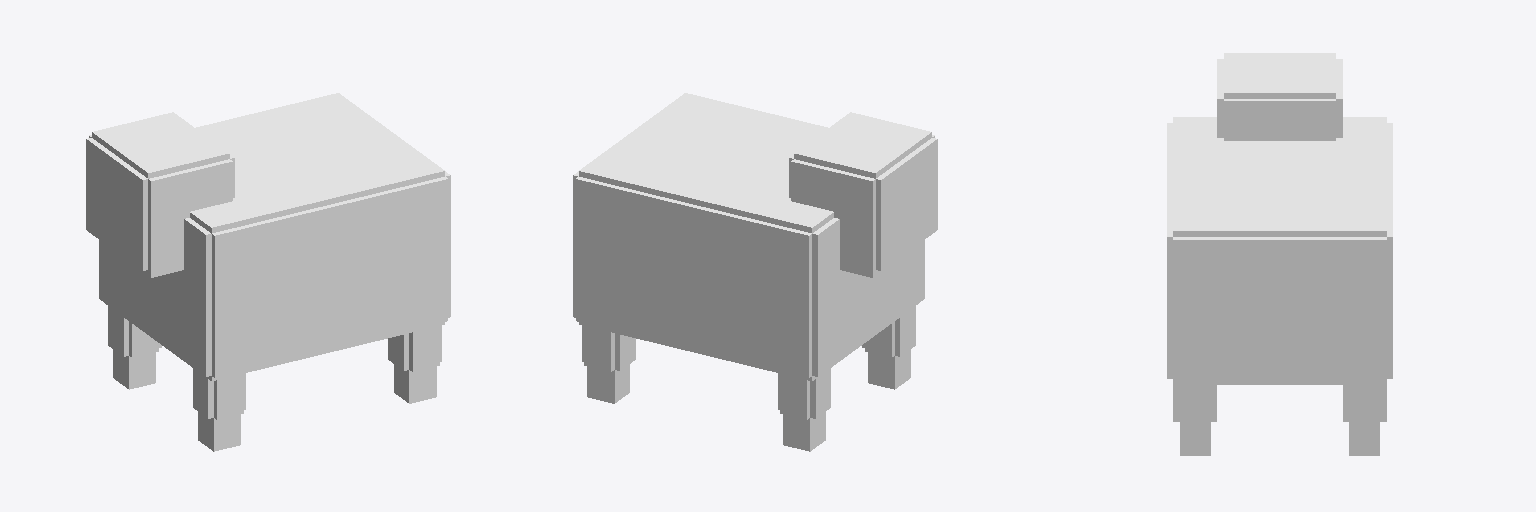
The model's file is hamster3020.obj.
3 views of the same model, side by side, from view 1: azimuth 30°, elevation 25°; view 2: azimuth 150°, elevation 25°; view 3: azimuth 270°, elevation 25° (orthographic).
Visible parts, largest first — view 1: object 1; view 2: object 1; view 3: object 1.
Part boxes in pixels (bbox=[...]): object 1: bbox=[86, 93, 450, 451]; object 1: bbox=[573, 93, 937, 451]; object 1: bbox=[1167, 53, 1392, 455].
Bounding box in the file's own units: 5.2 × 4.8 × 3.6.